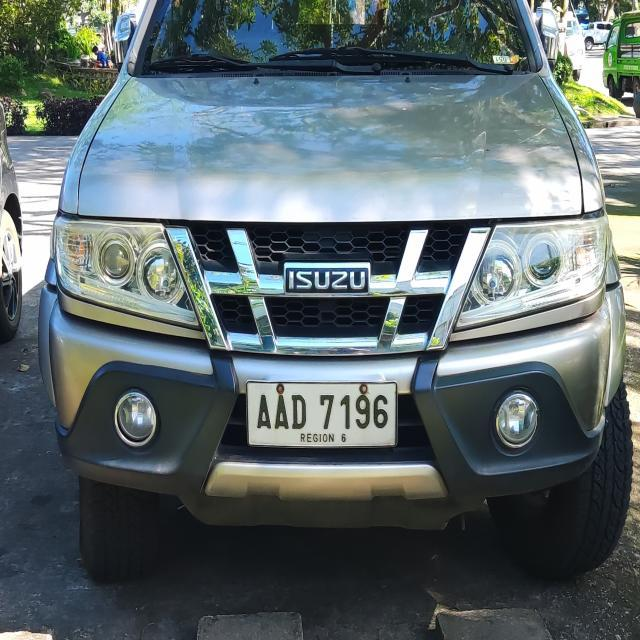LicensePlate: (242, 376, 407, 450)
